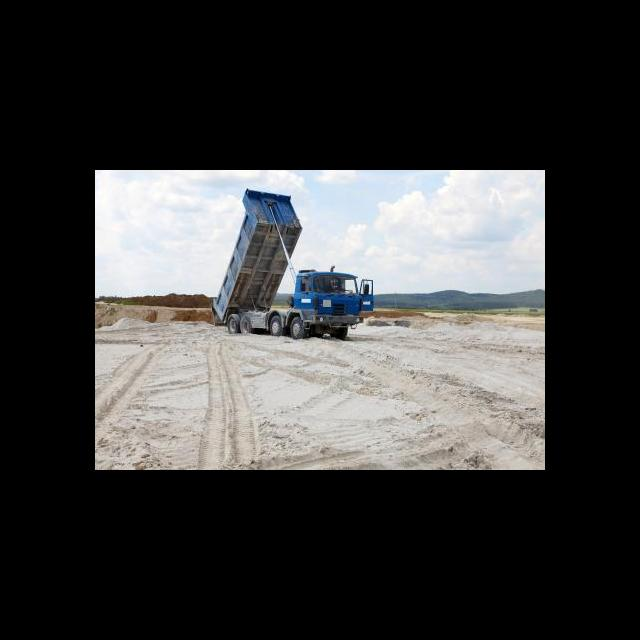dump truck: (210, 187, 375, 340)
